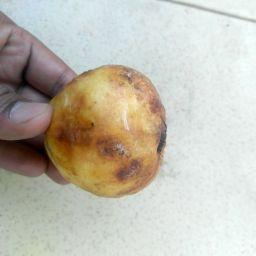guava: (37, 59, 170, 201)
